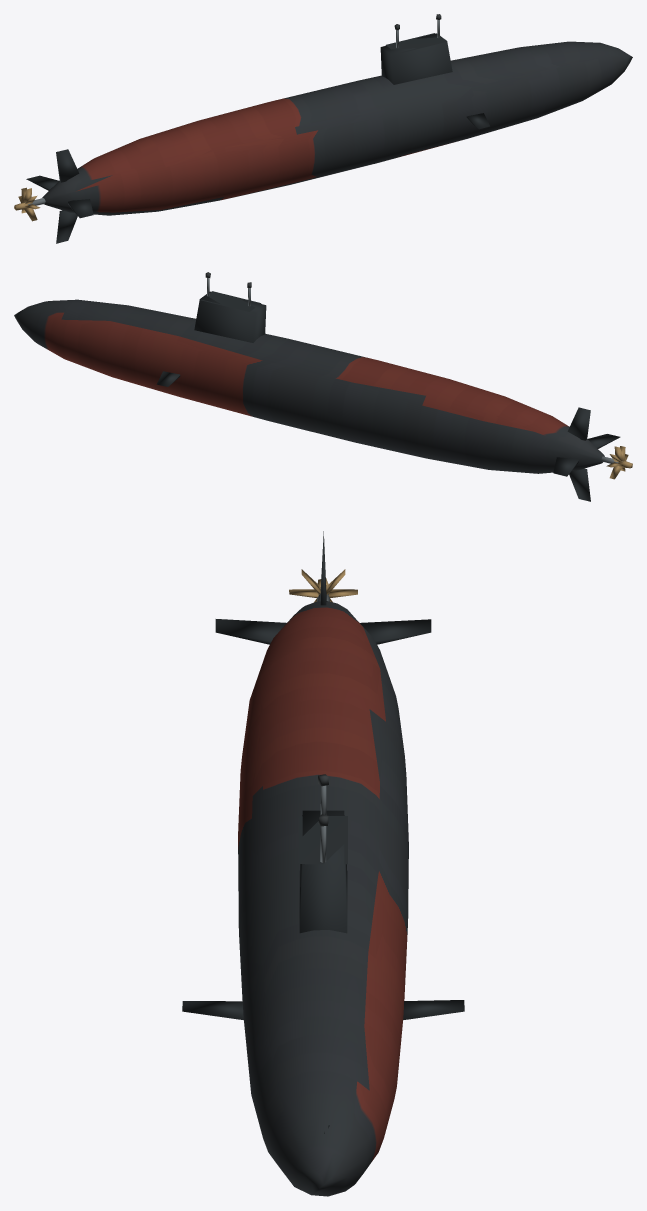
File: US_SSN_Skipjack_LOD3.fbx
3 renders of one model, top to bottom at view 1: azimuth 30°, elevation 25°; view 2: azimuth 150°, elevation 25°; view 3: azimuth 270°, elevation 25°, orthographic. The views are drawn at different scales.
Visible parts, largest first — view 1: US_SSN_Skipjack_LOD3; view 2: US_SSN_Skipjack_LOD3; view 3: US_SSN_Skipjack_LOD3.
Boxes of the visible parts, x1,y1,x2,y2 form: US_SSN_Skipjack_LOD3: (14, 14, 632, 243); US_SSN_Skipjack_LOD3: (14, 272, 632, 501); US_SSN_Skipjack_LOD3: (182, 531, 464, 1196).
Size of the model in its own units: 80.46 by 15.91 by 16.85.
6 materials, 1 textured.
